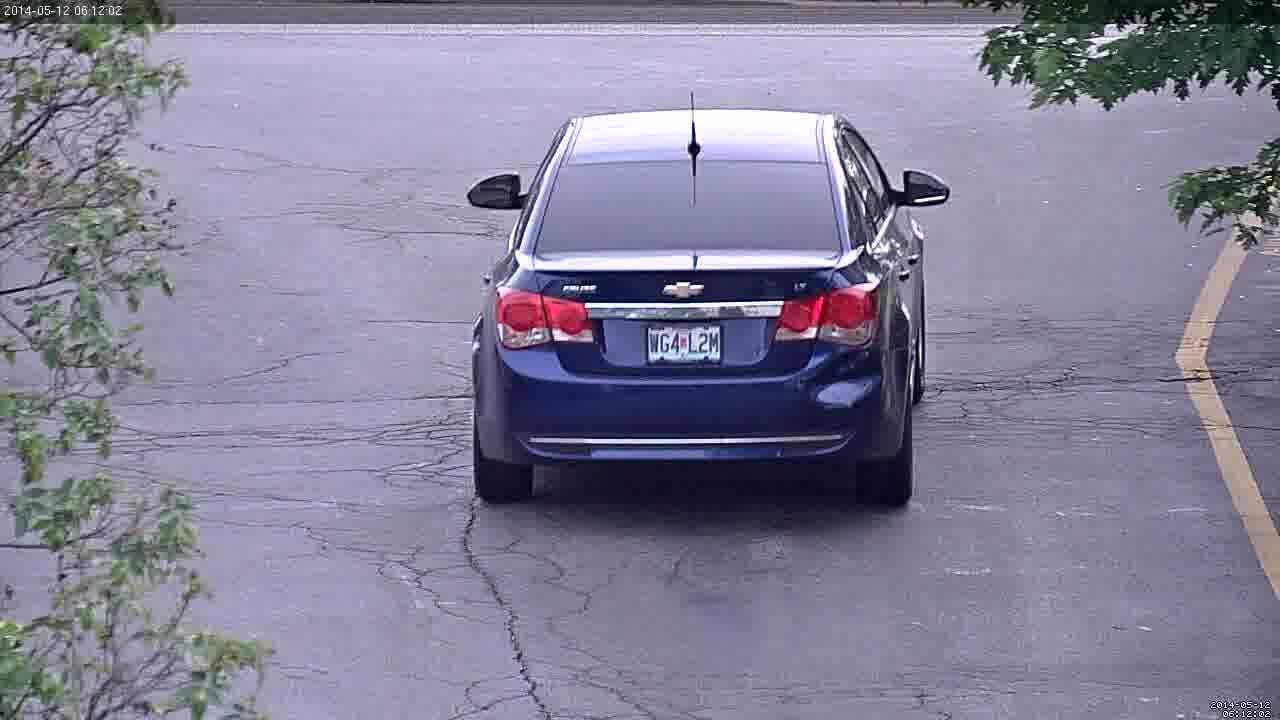placa de veiculo: (637, 315, 752, 370)
